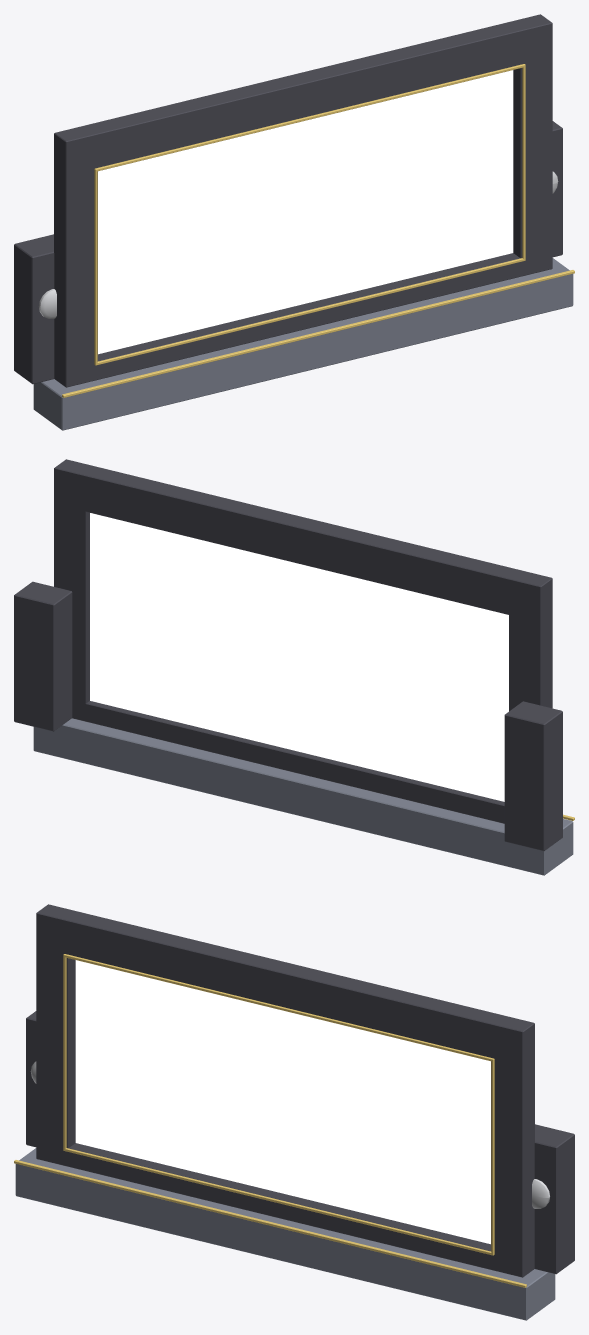
The model's file is cinema-multiplex-and-foyer-cinema-screen-and-masking-92b7d56f.glb.
3 renders of one model, top to bottom at view 1: azimuth 30°, elevation 25°; view 2: azimuth 150°, elevation 25°; view 3: azimuth 330°, elevation 25°, orthographic.
Visible parts, largest first — view 1: cinema-screen-and-masking; view 2: cinema-screen-and-masking; view 3: cinema-screen-and-masking.
Boxes of the visible parts, left/top/right/bottom form: cinema-screen-and-masking: left=14, top=14, right=574, bottom=430; cinema-screen-and-masking: left=14, top=459, right=574, bottom=875; cinema-screen-and-masking: left=14, top=904, right=574, bottom=1320.
Bounding box in the file's own units: 6.54 × 3.3 × 0.8601.
